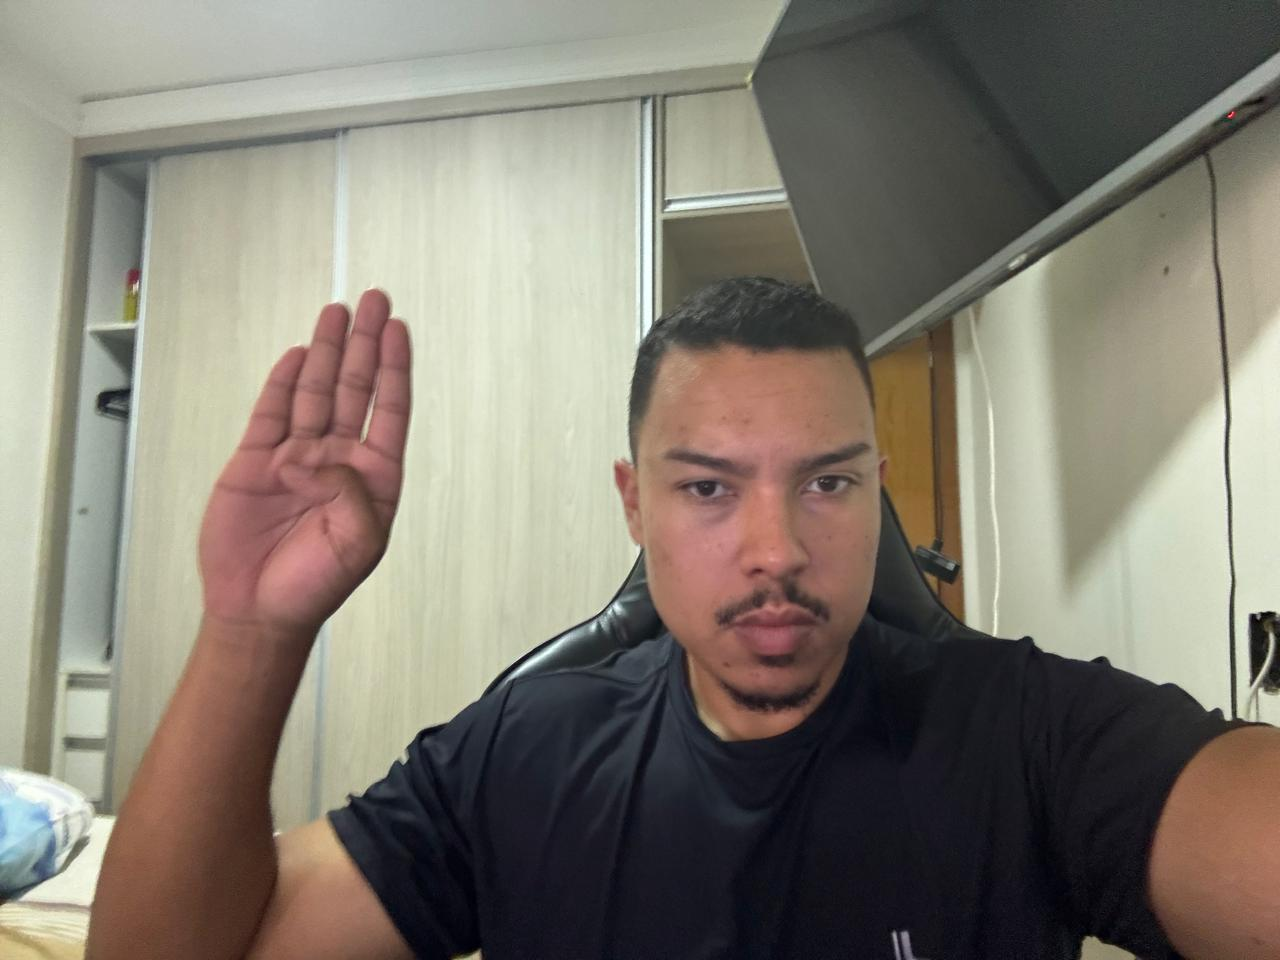b: (189, 285, 423, 624)
